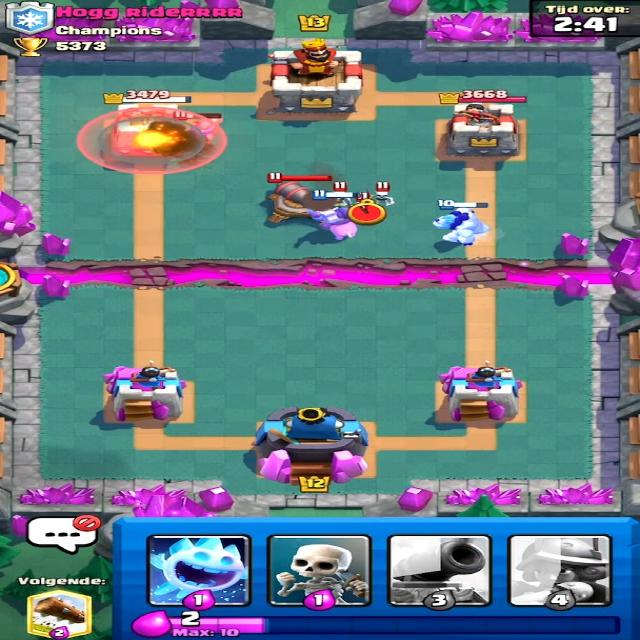Cannon_Card: (382, 534, 486, 604)
Enemy_Cannon_Troop: (261, 179, 325, 230)
Ice_Golem_Troop: (435, 200, 488, 246)
Ice_Spirit_Card: (146, 533, 252, 607)
Musketeer_Card: (510, 531, 610, 607)
Skeleton_Card: (259, 530, 376, 614)
